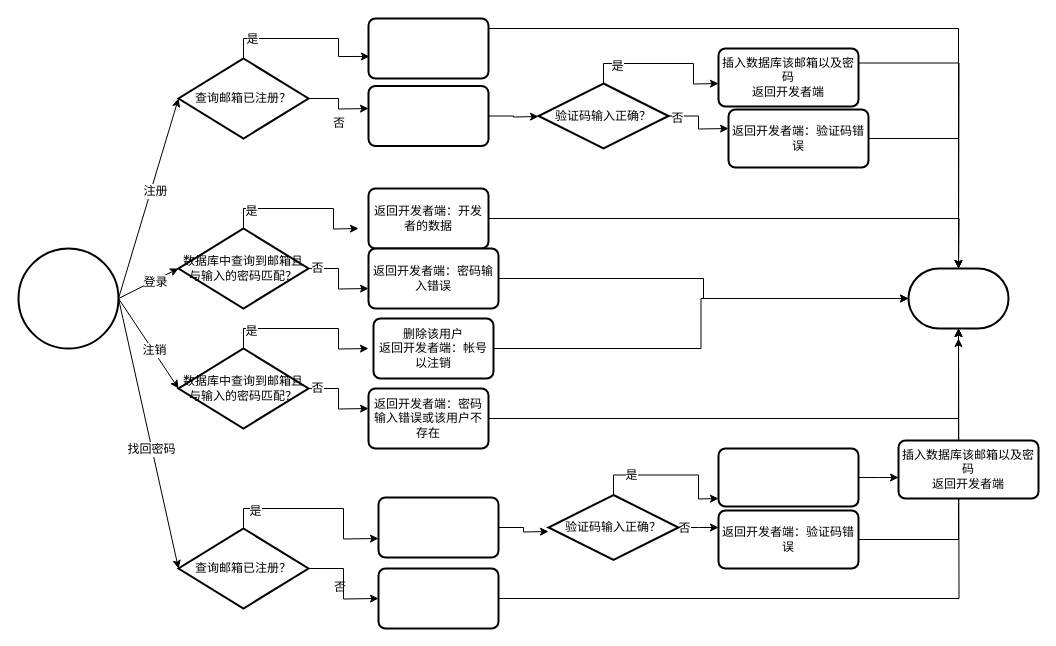
This 1056x646 diagram has some shape labels left out. Here are the shapes that lost their labels. From the top down, the box of each, then its label:
(367, 17, 489, 79): 返回开发者端：邮箱已注册
(367, 84, 489, 146): 发送该邮箱验证码 返回开发者端：请输入验证码
(17, 247, 119, 349): 来自开发者端数据的输入
(907, 267, 1009, 329): 返回开发者端
(717, 447, 859, 507): 返回开发者端：请输入新密码
(377, 496, 499, 558): 发送验证码给该邮箱 返回开发者端：请输入验证码
(377, 567, 499, 629): 返回开发者端：该邮箱未注册
